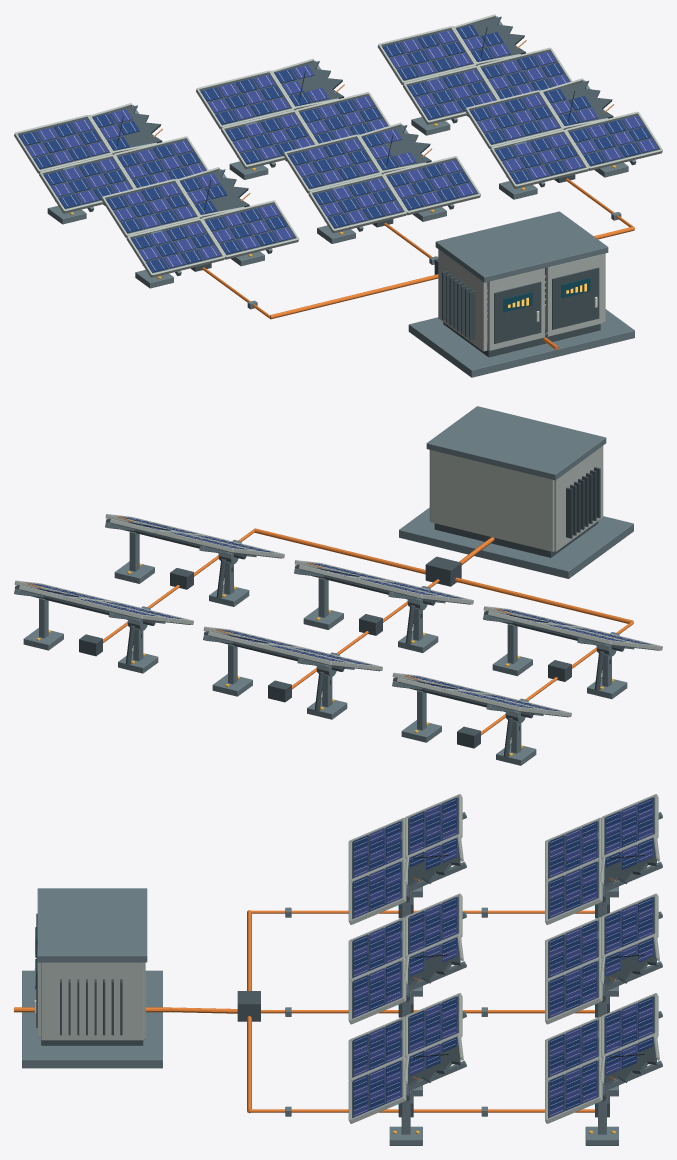
The model's file is solar_power_complex_d1.glb.
The picture shows the model from 3 angles, top to bottom: view 1: azimuth 30°, elevation 25°; view 2: azimuth 150°, elevation 25°; view 3: azimuth 270°, elevation 25°; orthographic projection. The views are drawn at different scales.
Parts seen in each view (by area): view 1: INVERTER_ROOF, POWER_STATION_FOUNDATION, DOOR_INSET, DOOR_INSET_001, INVERTER_ARMORED_SIDE, INVERTER_ACCESS_DOOR, INVERTER_ACCESS_DOOR_001, COLLECTION_CABLE_TRUNK, JAGGED_PV_BACKING_001, JAGGED_PV_BACKING_003, JAGGED_PV_BACKING_004, JAGGED_PV_BACKING (+21 smaller); view 2: INVERTER_REAR_ARMOR, INVERTER_ROOF, POWER_STATION_FOUNDATION, INVERTER_ARMORED_SIDE, COLLECTION_CABLE_TRUNK, INVERTER_CHASSIS, ARRAY_COMBINER_BOX, RACK_ANCHOR_FOOTING_001, RACK_ANCHOR_FOOTING_005, RACK_ANCHOR_FOOTING_003, RACK_ANCHOR_FOOTING_011, RACK_ANCHOR_FOOTING_009 (+1 smaller); view 3: INVERTER_ROOF, INVERTER_ARMORED_SIDE_001, POWER_STATION_FOUNDATION, ARRAY_COLLECTION_CABLE_002, COLLECTION_CABLE_TRUNK, JAGGED_PV_BACKING, JAGGED_PV_BACKING_002, JAGGED_PV_BACKING_001, JAGGED_PV_BACKING_004, JAGGED_PV_BACKING_003, JAGGED_PV_BACKING_005, ARRAY_COLLECTION_CABLE (+5 smaller).
Boxes of the visible parts, x1=… form: INVERTER_ROOF: x1=435, y1=211, x2=608, y2=282; POWER_STATION_FOUNDATION: x1=408, y1=309, x2=634, y2=377; DOOR_INSET: x1=494, y1=281, x2=541, y2=343; DOOR_INSET_001: x1=552, y1=267, x2=599, y2=329; INVERTER_ARMORED_SIDE: x1=438, y1=249, x2=487, y2=351; INVERTER_ACCESS_DOOR: x1=487, y1=268, x2=544, y2=350; INVERTER_ACCESS_DOOR_001: x1=546, y1=254, x2=602, y2=336; COLLECTION_CABLE_TRUNK: x1=270, y1=226, x2=634, y2=319; JAGGED_PV_BACKING_001: x1=362, y1=125, x2=431, y2=168; JAGGED_PV_BACKING_003: x1=92, y1=105, x2=162, y2=149; JAGGED_PV_BACKING_004: x1=274, y1=61, x2=344, y2=105; JAGGED_PV_BACKING: x1=180, y1=169, x2=249, y2=213; INVERTER_REAR_ARMOR: x1=430, y1=450, x2=554, y2=551; INVERTER_ROOF: x1=426, y1=406, x2=606, y2=480; POWER_STATION_FOUNDATION: x1=399, y1=507, x2=633, y2=578; INVERTER_ARMORED_SIDE: x1=554, y1=446, x2=603, y2=551; COLLECTION_CABLE_TRUNK: x1=254, y1=528, x2=633, y2=623; INVERTER_CHASSIS: x1=434, y1=521, x2=598, y2=557; ARRAY_COMBINER_BOX: x1=425, y1=556, x2=461, y2=586; RACK_ANCHOR_FOOTING_001: x1=492, y1=653, x2=532, y2=676; RACK_ANCHOR_FOOTING_005: x1=114, y1=561, x2=154, y2=583; RACK_ANCHOR_FOOTING_003: x1=303, y1=607, x2=343, y2=629; RACK_ANCHOR_FOOTING_011: x1=23, y1=628, x2=63, y2=650; RACK_ANCHOR_FOOTING_009: x1=212, y1=674, x2=252, y2=696; INVERTER_ROOF: x1=37, y1=888, x2=147, y2=962; INVERTER_ARMORED_SIDE_001: x1=41, y1=962, x2=143, y2=1040; POWER_STATION_FOUNDATION: x1=22, y1=970, x2=162, y2=1068; ARRAY_COLLECTION_CABLE_002: x1=249, y1=1109, x2=594, y2=1112; COLLECTION_CABLE_TRUNK: x1=247, y1=910, x2=251, y2=1113; JAGGED_PV_BACKING: x1=408, y1=838, x2=460, y2=888; JAGGED_PV_BACKING_002: x1=408, y1=1037, x2=460, y2=1087; JAGGED_PV_BACKING_001: x1=408, y1=938, x2=460, y2=987; JAGGED_PV_BACKING_004: x1=604, y1=938, x2=656, y2=987; JAGGED_PV_BACKING_003: x1=604, y1=838, x2=656, y2=888; JAGGED_PV_BACKING_005: x1=604, y1=1037, x2=656, y2=1087; ARRAY_COLLECTION_CABLE: x1=251, y1=910, x2=594, y2=913.
Size of the model in its own units: 16.88 by 2.86 by 16.54.
